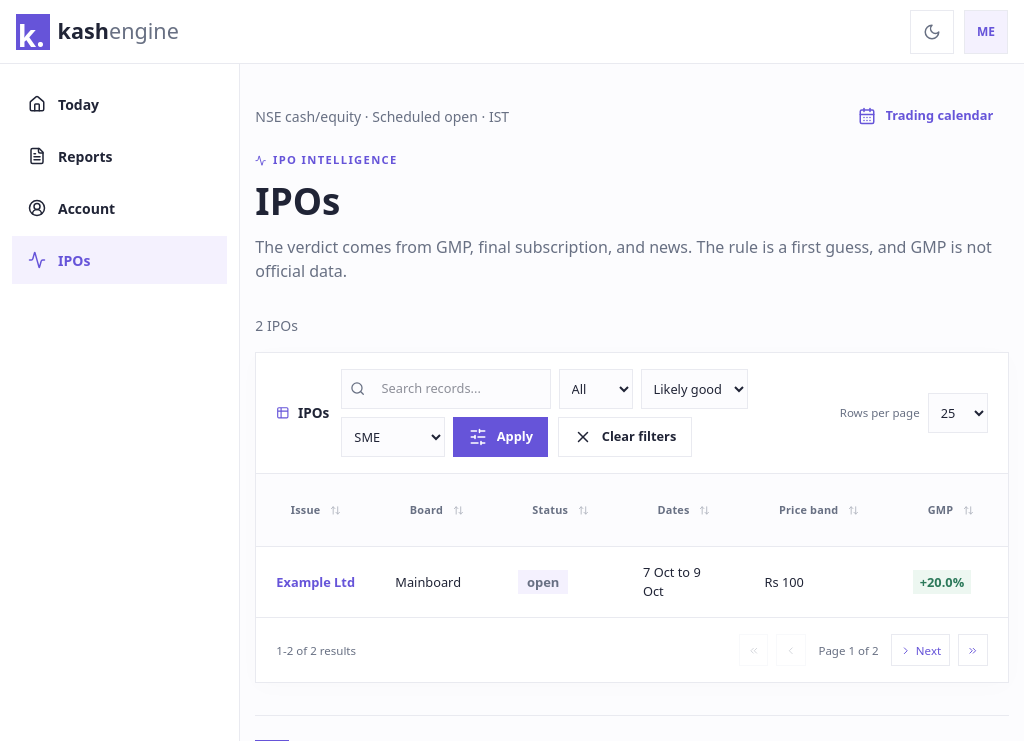
Test: clears pending typing and resets to Active
The image size is (1024, 741).
Type "pending" into the search field.
click(462, 389); type("pending")  # box [374,370,550,408]
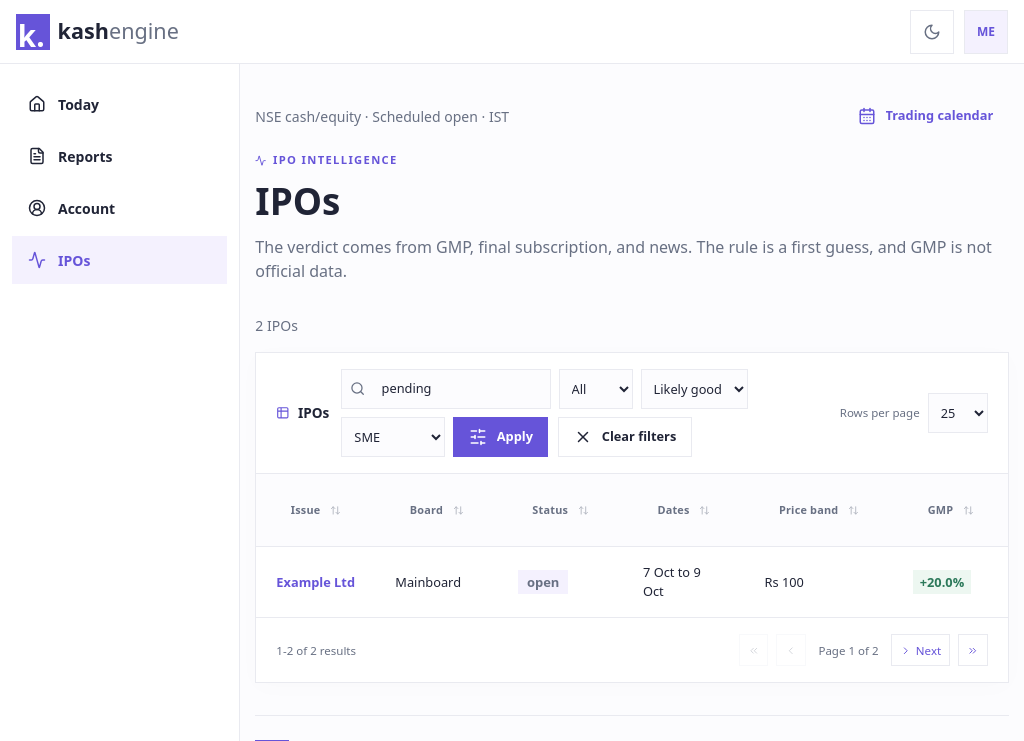
Click the button "Clear filters".
click(625, 437)  # box [558,417,692,457]
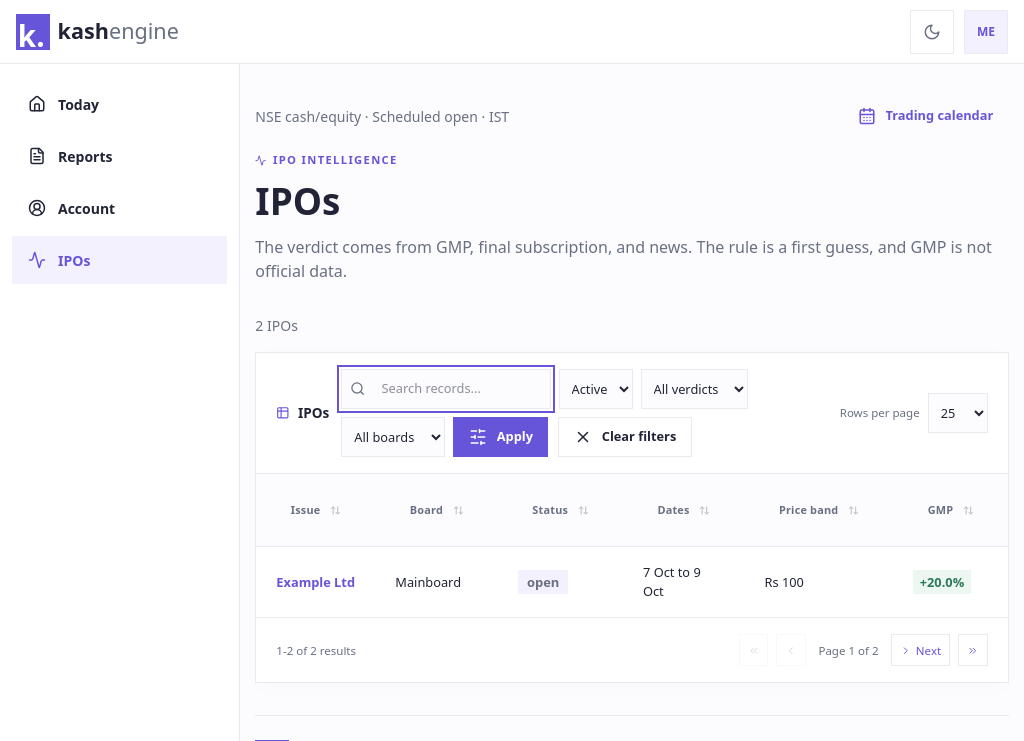
expect the search field is empty: met, box [374,370,550,408]
